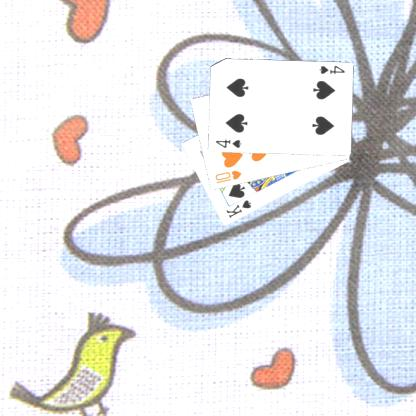10H: (212, 168, 243, 185)
4S: (212, 136, 243, 150), (316, 62, 346, 76)
KS: (223, 197, 253, 220)
